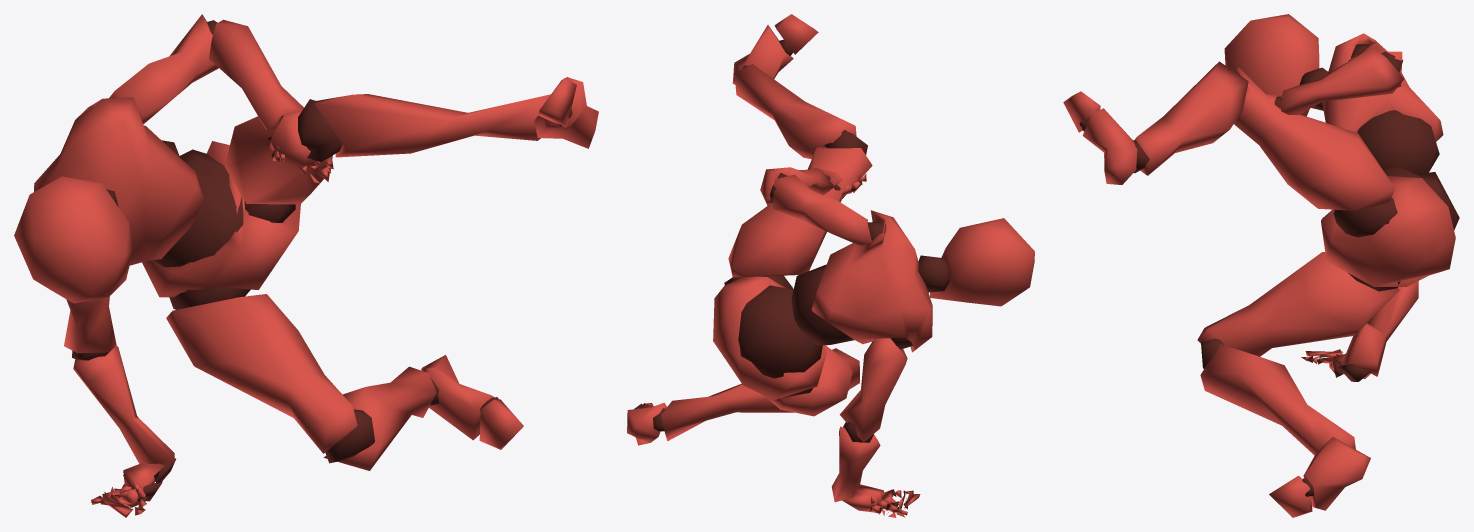
3 renders of one model, left to right at view 1: azimuth 30°, elevation 25°; view 2: azimuth 150°, elevation 25°; view 3: azimuth 270°, elevation 25°, orthographic. The views are drawn at different scales.
Visible parts, largest first — view 1: Beta_Surface; view 2: Beta_Surface; view 3: Beta_Surface.
Boxes of the visible parts, bbox=[...] form: Beta_Surface: bbox=[14, 14, 598, 517]; Beta_Surface: bbox=[627, 14, 1034, 517]; Beta_Surface: bbox=[1063, 14, 1459, 517].
Bounding box in the file's own units: 11.25 × 10.35 × 9.28.
